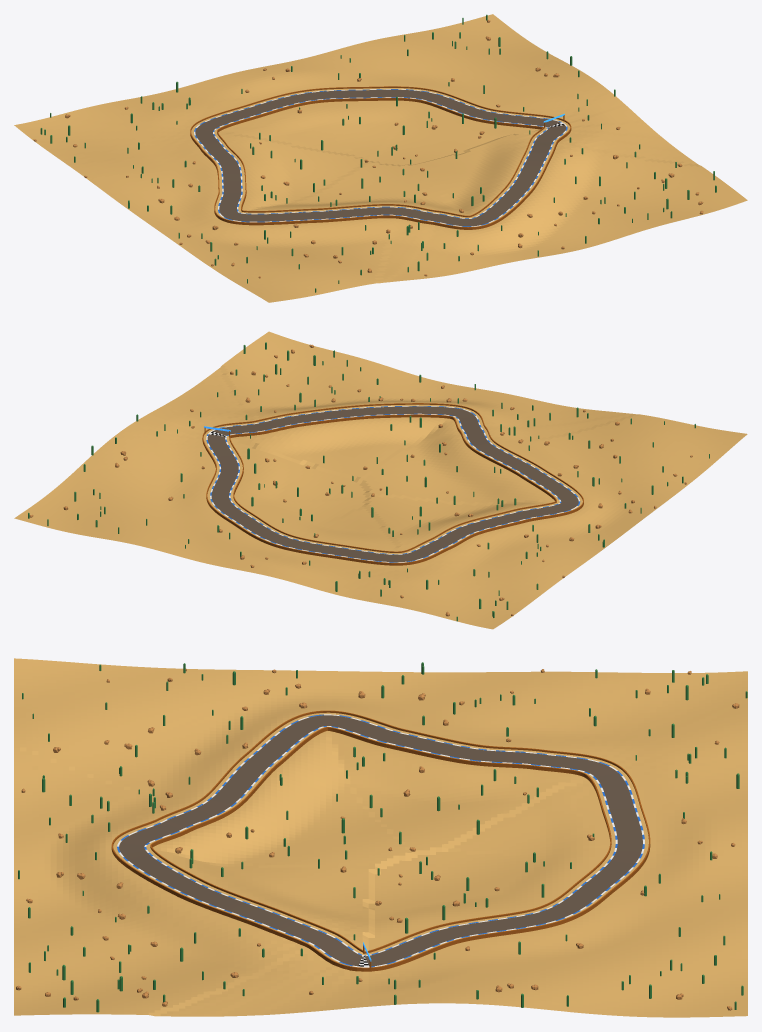
Rendered from level_2.glb.
3 renders of one model, top to bottom at view 1: azimuth 30°, elevation 25°; view 2: azimuth 150°, elevation 25°; view 3: azimuth 270°, elevation 25°, orthographic. The views are drawn at different scales.
Visible parts, largest first — view 1: Terrain, Road, Props_trunk, Wall_L, Wall_R, Shoulder_L, Props_leaf2, Curb_L, Shoulder_R, Curb_R; view 2: Terrain, Road, Props_trunk, Wall_L, Wall_R, Shoulder_L, Props_leaf2, Curb_L, Shoulder_R, Curb_R; view 3: Terrain, Road, Props_trunk, Wall_L, Wall_R, Shoulder_L, Props_leaf2, Shoulder_R, Curb_L, Curb_R.
Boxes of the visible parts, x1,y1,x2,y2 form: Terrain: [14, 14, 747, 302]; Road: [195, 89, 565, 226]; Props_trunk: [40, 14, 716, 292]; Wall_L: [190, 86, 571, 229]; Wall_R: [217, 97, 544, 217]; Shoulder_L: [191, 88, 570, 226]; Props_leaf2: [33, 20, 703, 278]; Curb_L: [194, 89, 567, 226]; Shoulder_R: [214, 99, 546, 218]; Curb_R: [213, 97, 548, 218]; Terrain: [14, 331, 747, 629]; Road: [207, 406, 578, 562]; Props_trunk: [28, 342, 709, 621]; Wall_L: [202, 403, 583, 565]; Wall_R: [229, 414, 556, 552]; Shoulder_L: [203, 404, 582, 562]; Props_leaf2: [29, 344, 692, 616]; Curb_L: [206, 405, 580, 562]; Shoulder_R: [226, 416, 559, 554]; Curb_R: [225, 413, 561, 554]; Terrain: [14, 658, 747, 1017]; Road: [119, 715, 642, 966]; Props_trunk: [18, 662, 747, 1012]; Wall_L: [111, 710, 650, 971]; Wall_R: [150, 727, 611, 953]; Shoulder_L: [113, 712, 648, 967]; Props_leaf2: [16, 668, 739, 1010]; Shoulder_R: [146, 727, 615, 955]; Curb_L: [117, 714, 644, 967]; Curb_R: [144, 726, 617, 955].
Size of the model in its own units: 475 by 23.85 by 437.
